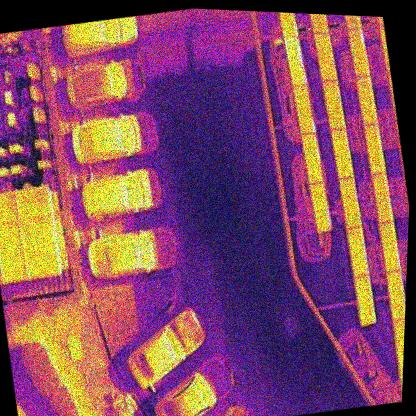Diode: (290, 82, 317, 138), (308, 180, 335, 234), (345, 26, 372, 80), (281, 36, 309, 88), (299, 132, 325, 185), (276, 12, 299, 38), (338, 15, 362, 31)
Normal: (352, 71, 380, 127), (320, 77, 348, 132), (328, 127, 355, 183), (344, 222, 371, 278), (361, 122, 388, 176), (337, 175, 364, 229), (312, 31, 339, 84), (369, 170, 395, 224), (352, 274, 378, 328), (377, 220, 402, 273), (384, 269, 407, 324), (391, 317, 405, 368), (306, 14, 329, 34)
